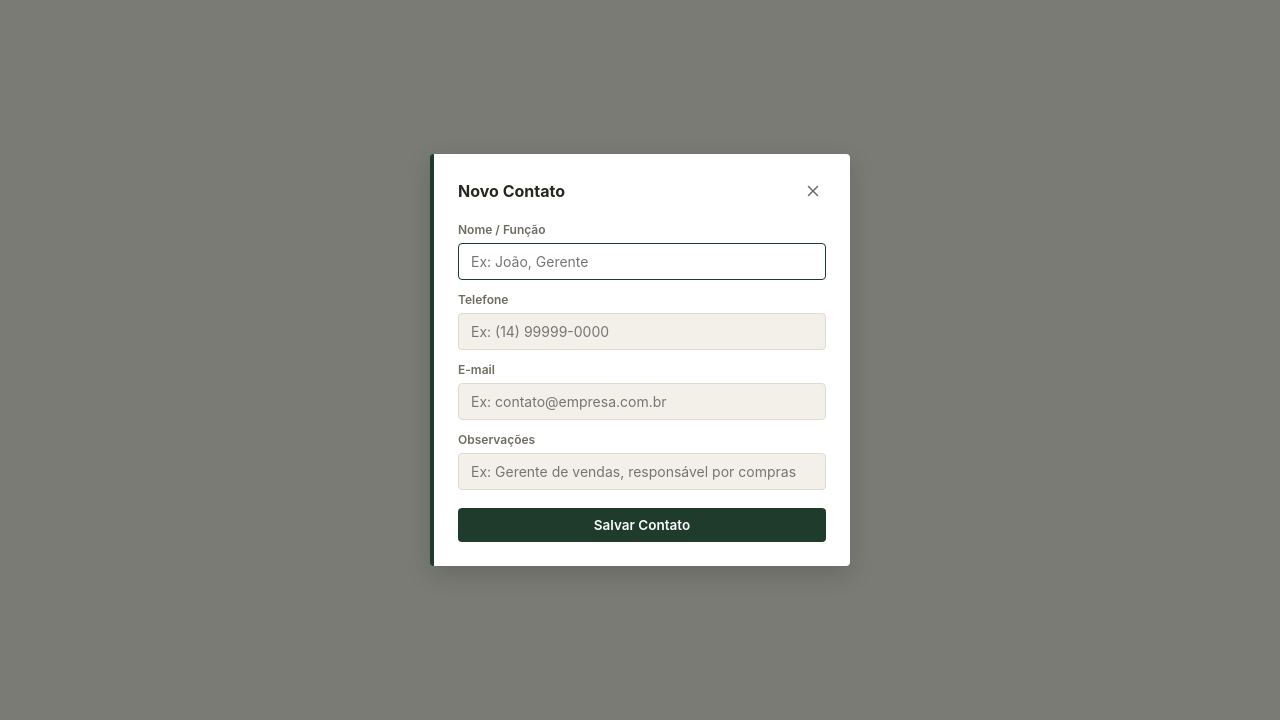
it: ContactFormModal › 8. Erro do serviço exibe mensagem e modal permanece aberto
Type "Erro Teste" into the field with placeholder "Ex: João, Gerente". click: point(642, 262)
box: [458,243,826,280]
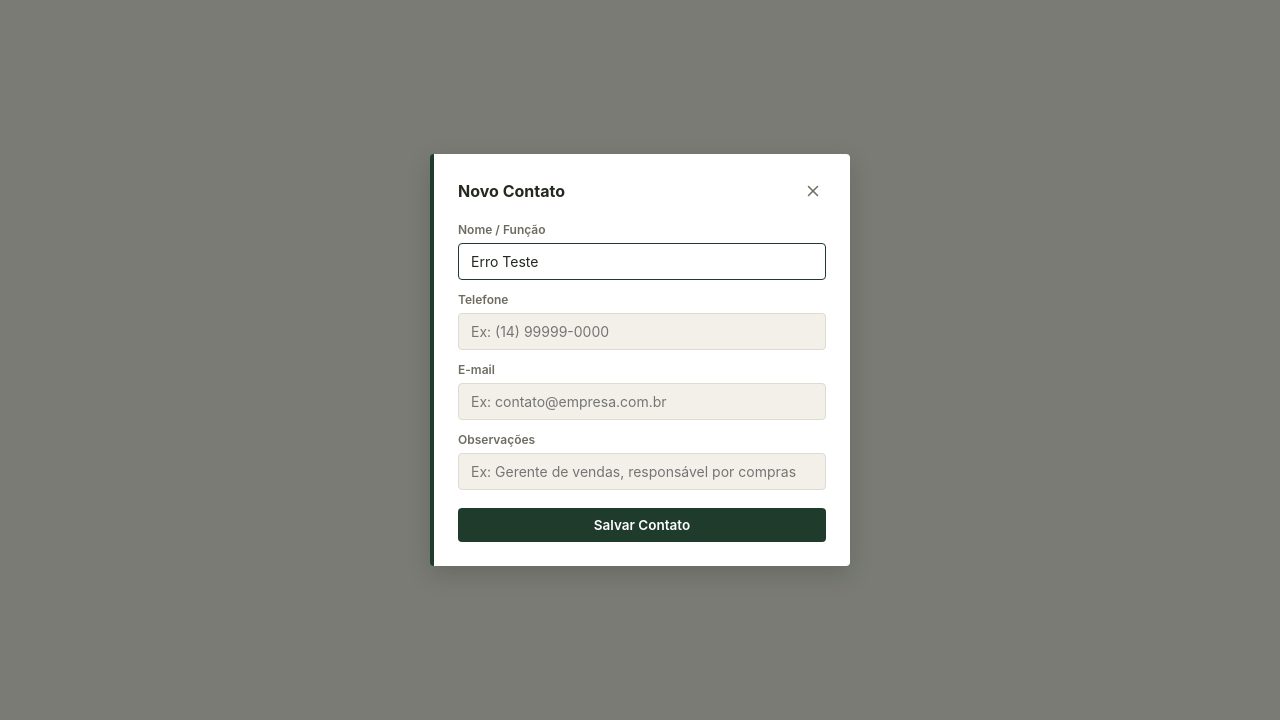
Submit the form, box [458,222,826,542]
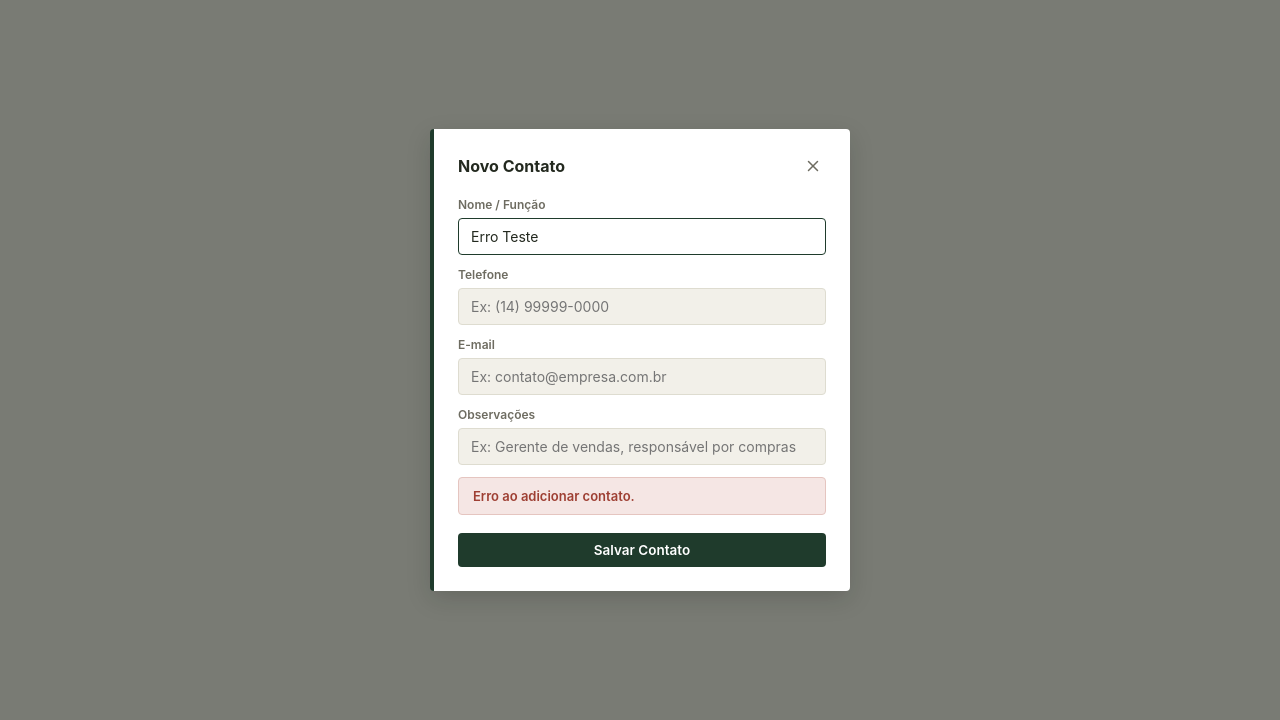
Now the text "Erro ao adicionar contato." is shown, box [458,477,826,515]
